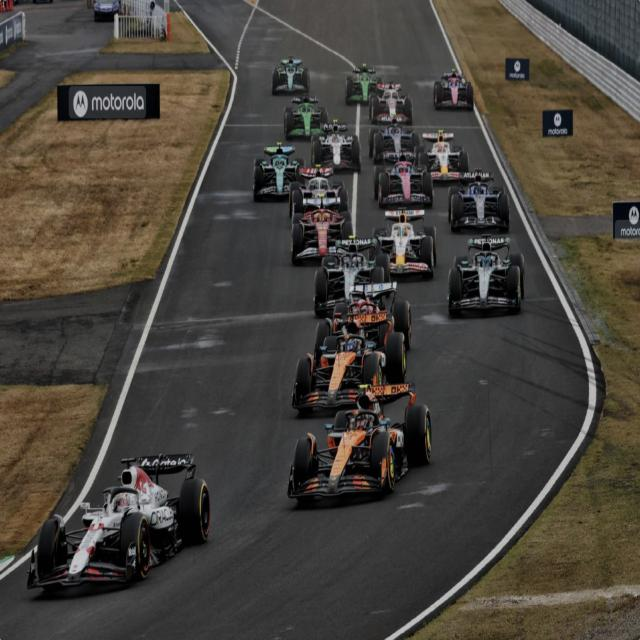Alpine: (375, 148, 434, 207), (433, 69, 474, 114)
Aston Martin: (254, 139, 304, 204), (273, 57, 311, 98)
Ferrari: (333, 283, 413, 343), (292, 196, 354, 267)
Haas: (290, 165, 352, 212), (371, 82, 414, 126)
Kick Sauber: (285, 95, 330, 141), (345, 62, 384, 105)
McLaren: (288, 383, 433, 506), (293, 310, 407, 411)
Mercedes: (447, 233, 526, 320), (316, 237, 390, 315)
Racing Bulls: (374, 206, 438, 284), (421, 130, 470, 184)
Red Bull: (25, 453, 213, 602), (312, 121, 362, 173)
Williams: (447, 167, 511, 234), (369, 112, 425, 161)
